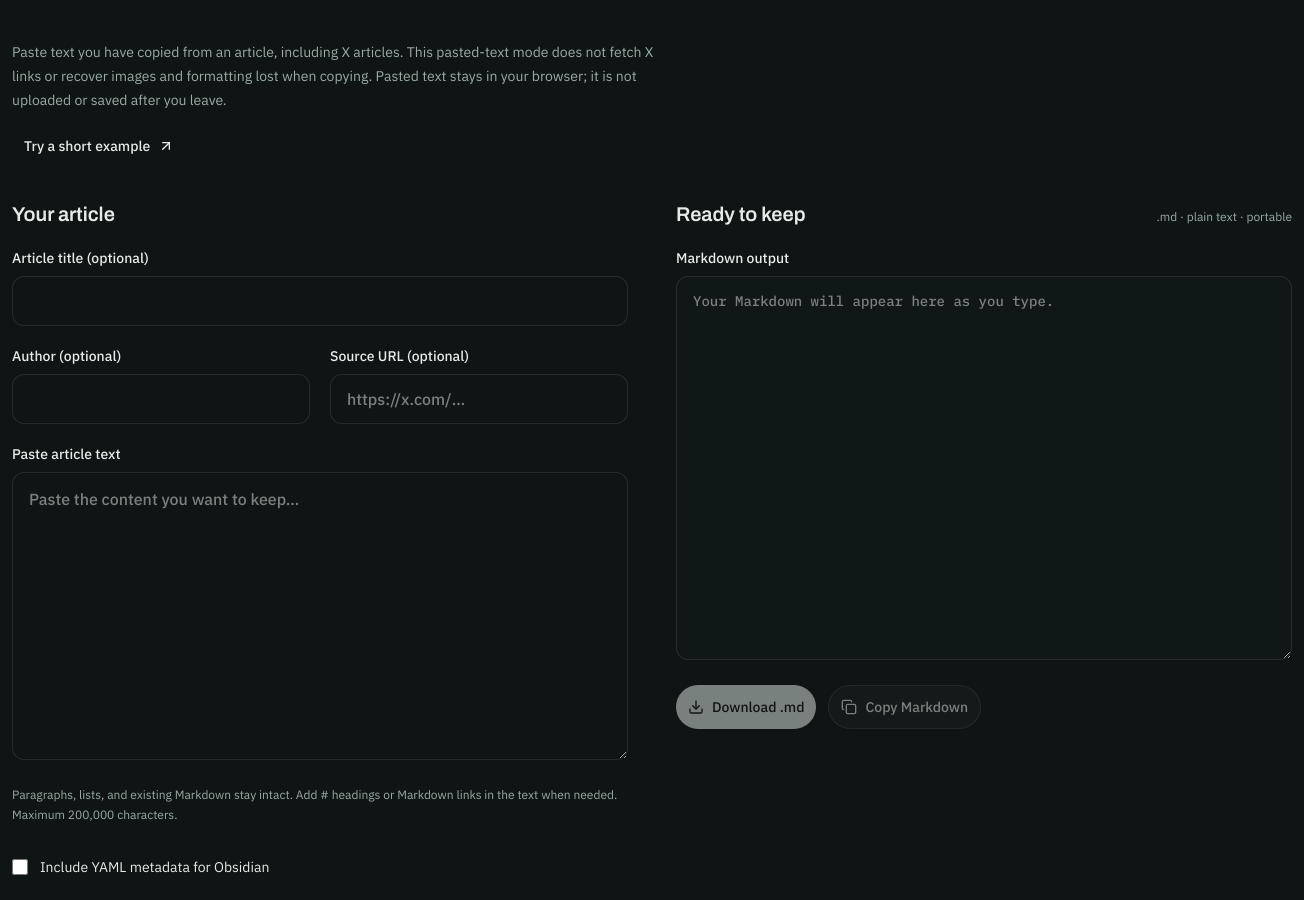
Test: loads an original sample and blocks invalid source exports
This screenshot has width=1304, height=900.
Step 1. Click the button "Try a short example" → point(99, 146), box x1=12 y1=124 x2=186 y2=168
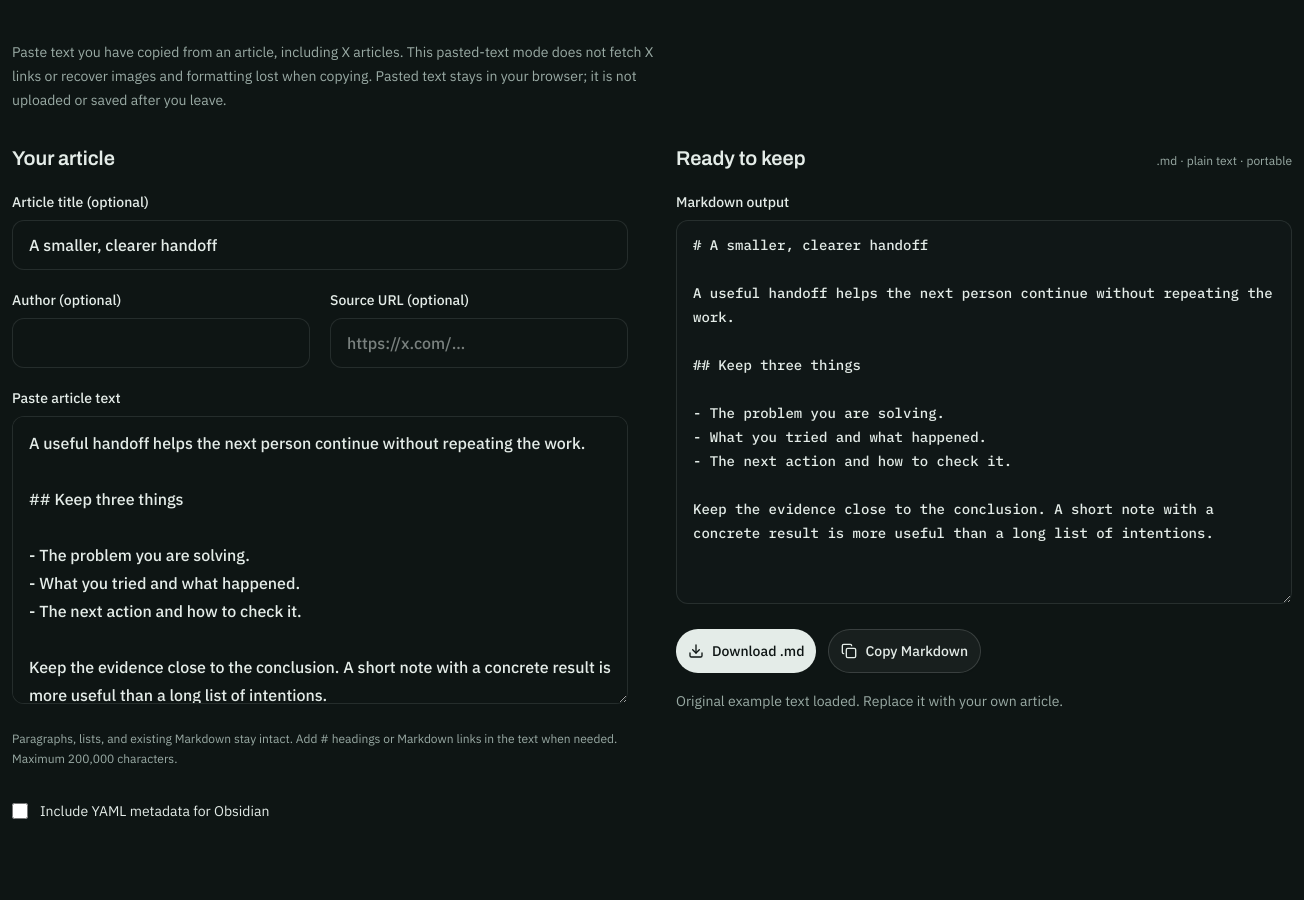
Step 2. Type "javascript:alert(1)" into the field labelled "Source URL (optional)" → point(479, 343), box x1=330 y1=318 x2=628 y2=368
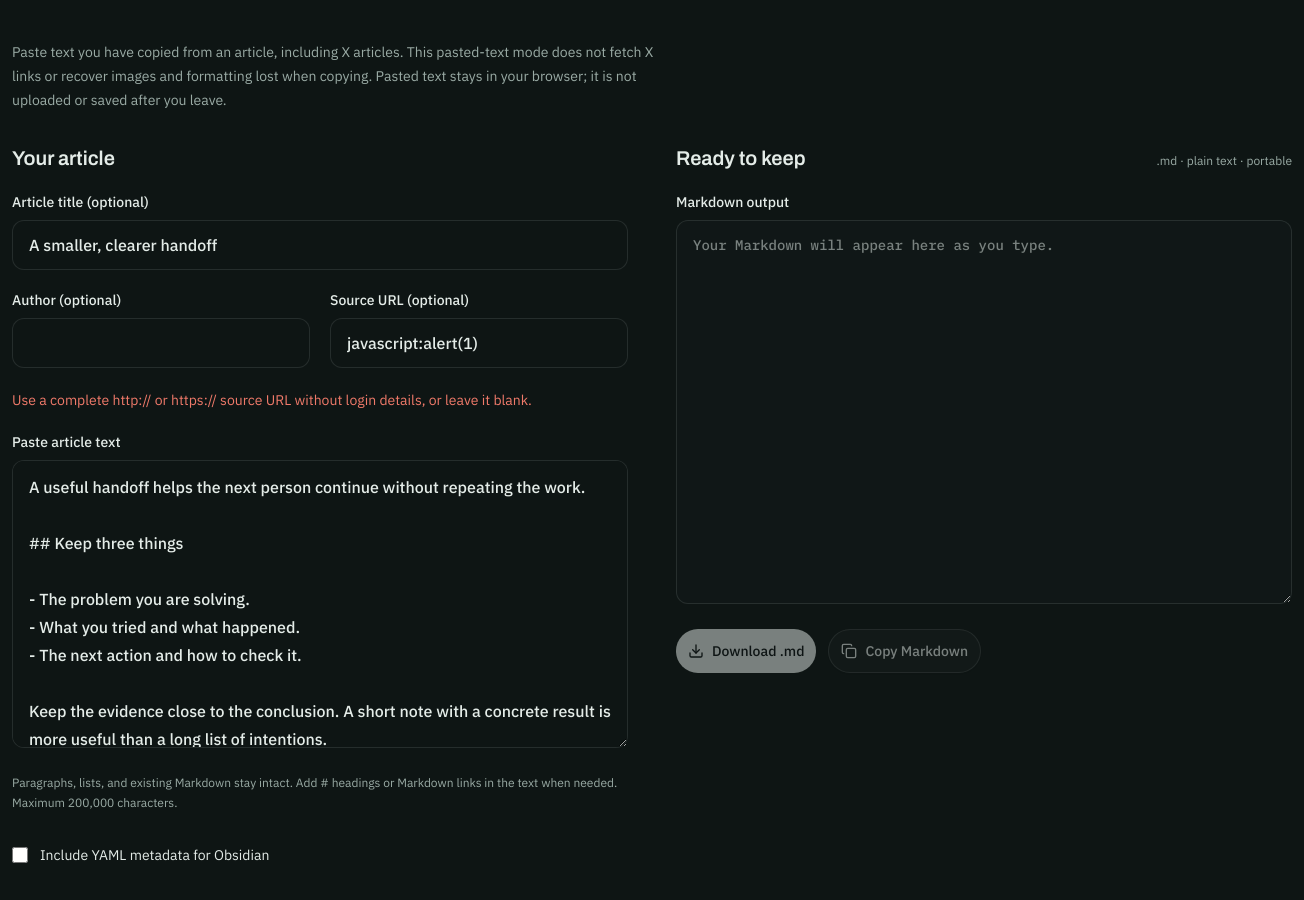
expect the 1st message shows "source": met, box x1=12 y1=391 x2=532 y2=409
expect the button "Download .md" is disabled: met, box x1=676 y1=629 x2=816 y2=673
